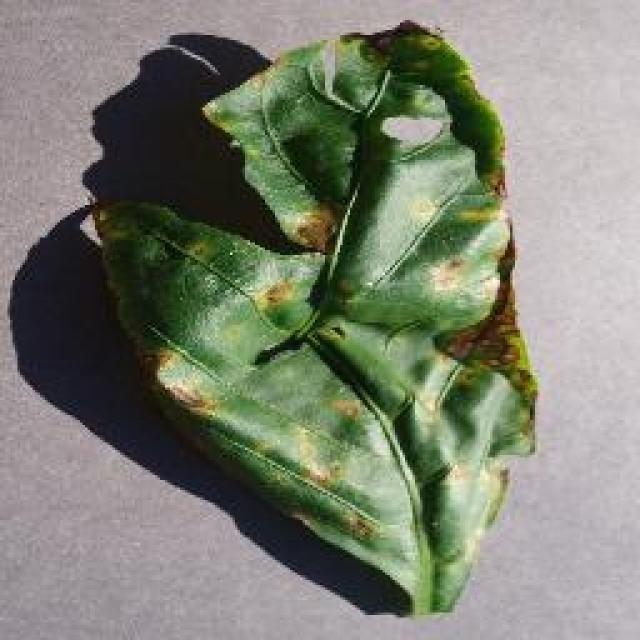Chilli_Bacterial_Spot: (80, 18, 542, 618), (250, 272, 312, 332), (282, 197, 340, 255), (422, 252, 470, 298), (252, 273, 298, 315), (402, 192, 442, 228), (322, 392, 362, 428), (340, 510, 378, 545), (328, 272, 360, 308)
